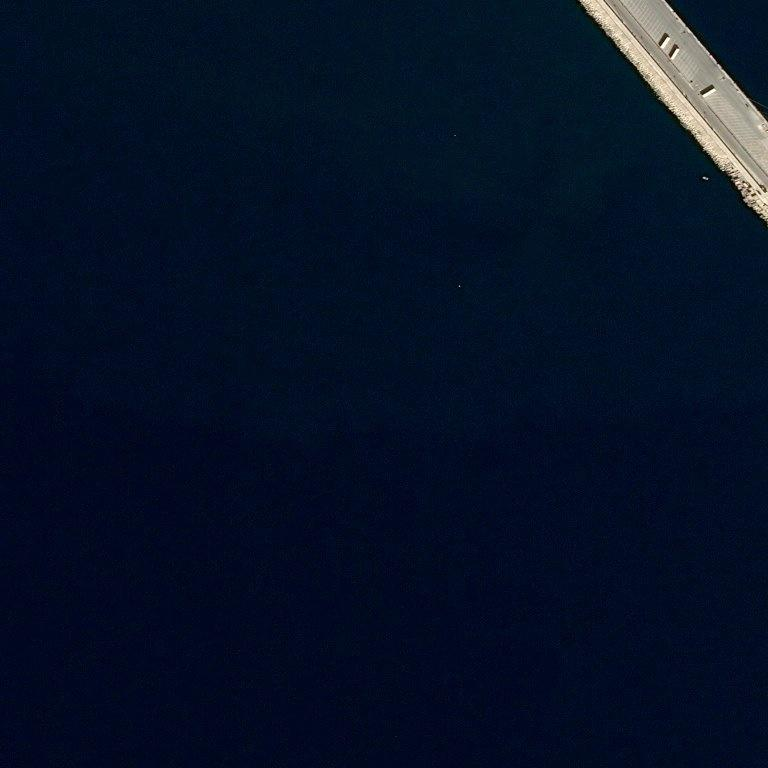ship: (702, 176, 710, 182)
